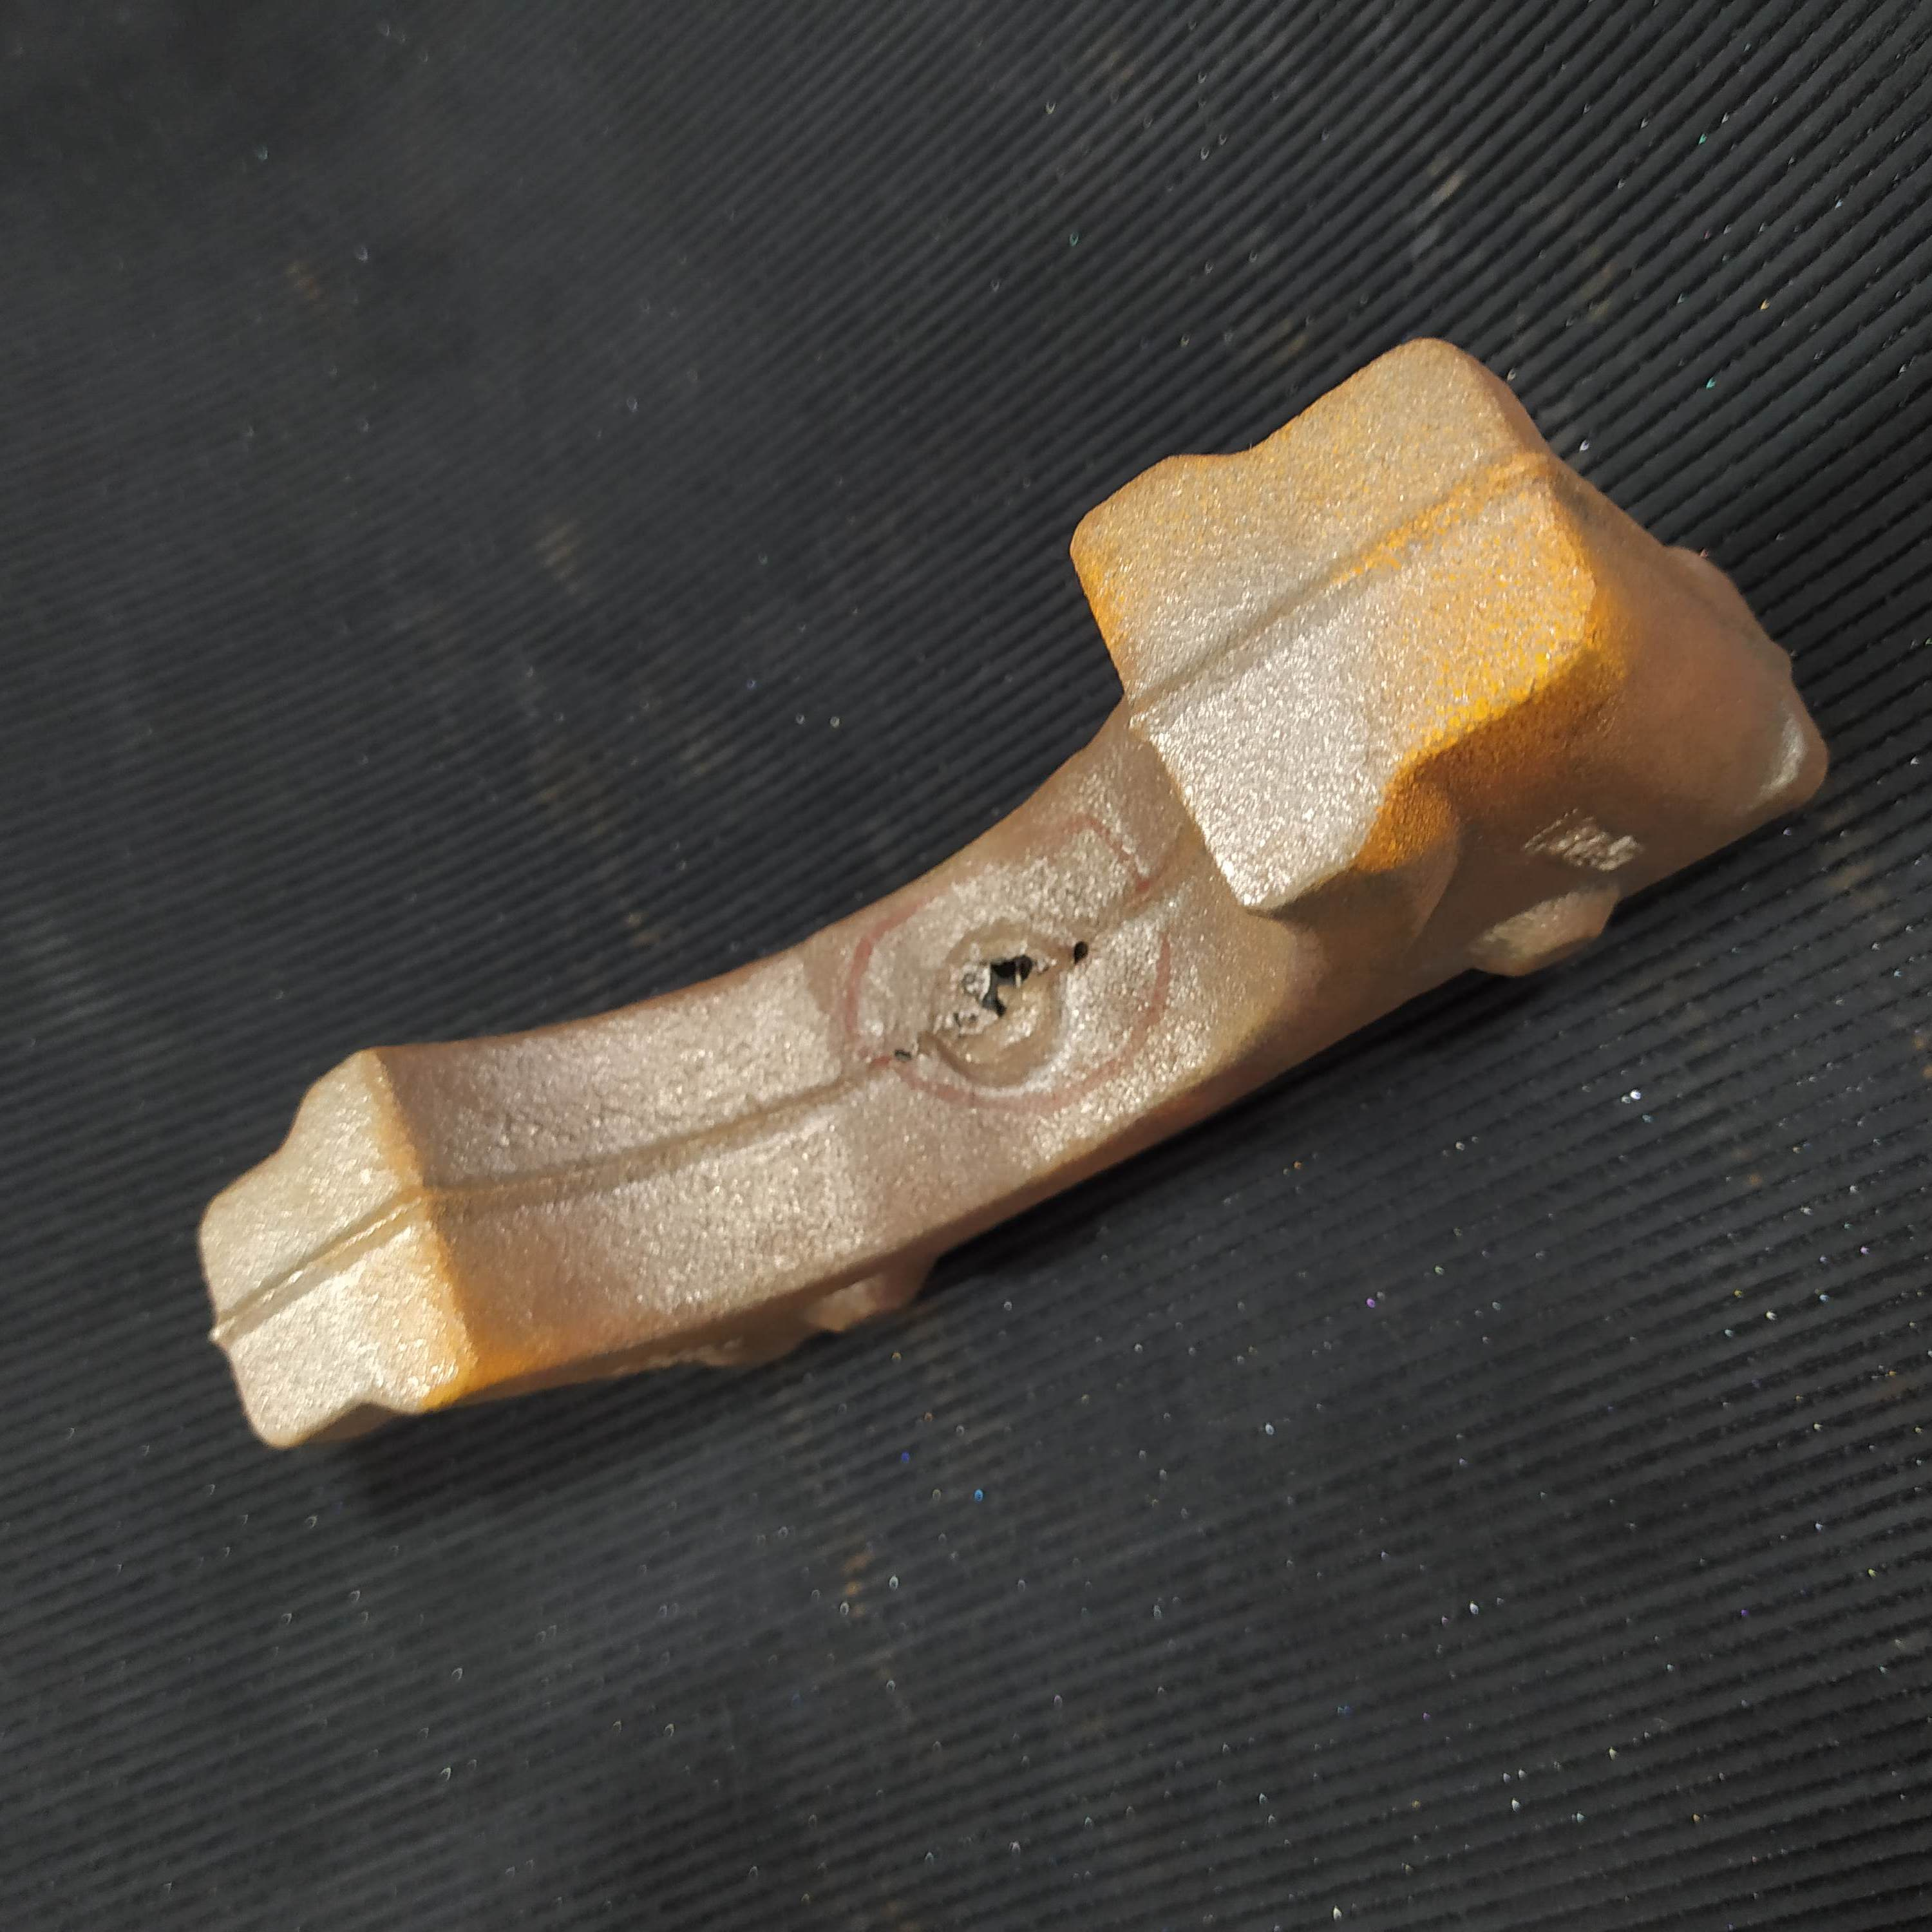buraco: (961, 950, 1039, 1023), (1065, 939, 1093, 968), (883, 1042, 918, 1063)
